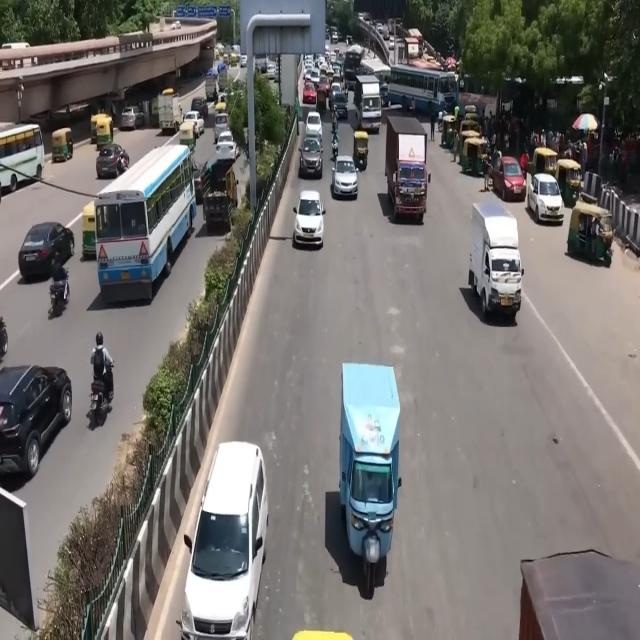auto: (567, 195, 613, 265), (461, 134, 488, 177), (81, 203, 97, 259), (560, 169, 581, 207), (52, 127, 74, 163), (178, 119, 199, 155), (92, 114, 114, 148), (353, 130, 369, 171), (442, 114, 457, 147), (205, 73, 218, 102), (230, 52, 238, 66)
bike-auto: (88, 357, 114, 426), (49, 268, 70, 318), (331, 134, 339, 162)
